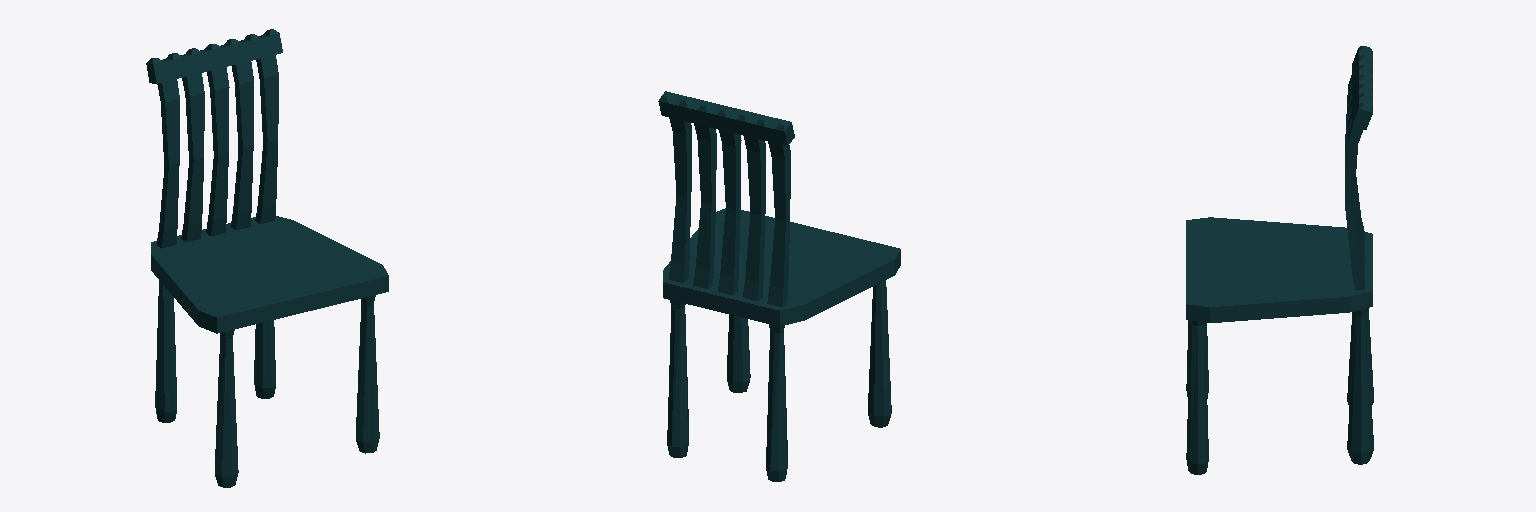
File: Texture_Chair.obj
3 views of the same model, side by side, from view 1: azimuth 30°, elevation 25°; view 2: azimuth 150°, elevation 25°; view 3: azimuth 270°, elevation 25° (orthographic).
Parts seen in each view (by area): view 1: ChairSeat, ChairSeat Back1 Back4 Back5 Back2 Back3, ChairSeat Leg4 Leg2 Leg3 Leg1, ChairSeat ChairTop; view 2: ChairSeat Back1 Back4 Back5 Back2 Back3, ChairSeat, ChairSeat Leg4 Leg2 Leg3 Leg1, ChairSeat ChairTop; view 3: ChairSeat, ChairSeat Leg4 Leg2 Leg3 Leg1, ChairSeat Back1 Back4 Back5 Back2 Back3, ChairSeat ChairTop.
Part boxes in pixels (x1,y1,x2,y2): ChairSeat: (151, 216, 388, 333); ChairSeat Back1 Back4 Back5 Back2 Back3: (157, 55, 278, 248); ChairSeat Leg4 Leg2 Leg3 Leg1: (155, 280, 379, 487); ChairSeat ChairTop: (146, 29, 282, 83); ChairSeat Back1 Back4 Back5 Back2 Back3: (668, 118, 790, 306); ChairSeat: (663, 208, 900, 326); ChairSeat Leg4 Leg2 Leg3 Leg1: (667, 280, 891, 481); ChairSeat ChairTop: (658, 91, 794, 145); ChairSeat: (1186, 217, 1372, 322); ChairSeat Leg4 Leg2 Leg3 Leg1: (1186, 308, 1373, 474); ChairSeat Back1 Back4 Back5 Back2 Back3: (1345, 75, 1364, 289); ChairSeat ChairTop: (1352, 46, 1372, 129).
Bounding box in the file's own units: 5.23 × 9.8 × 4.63.